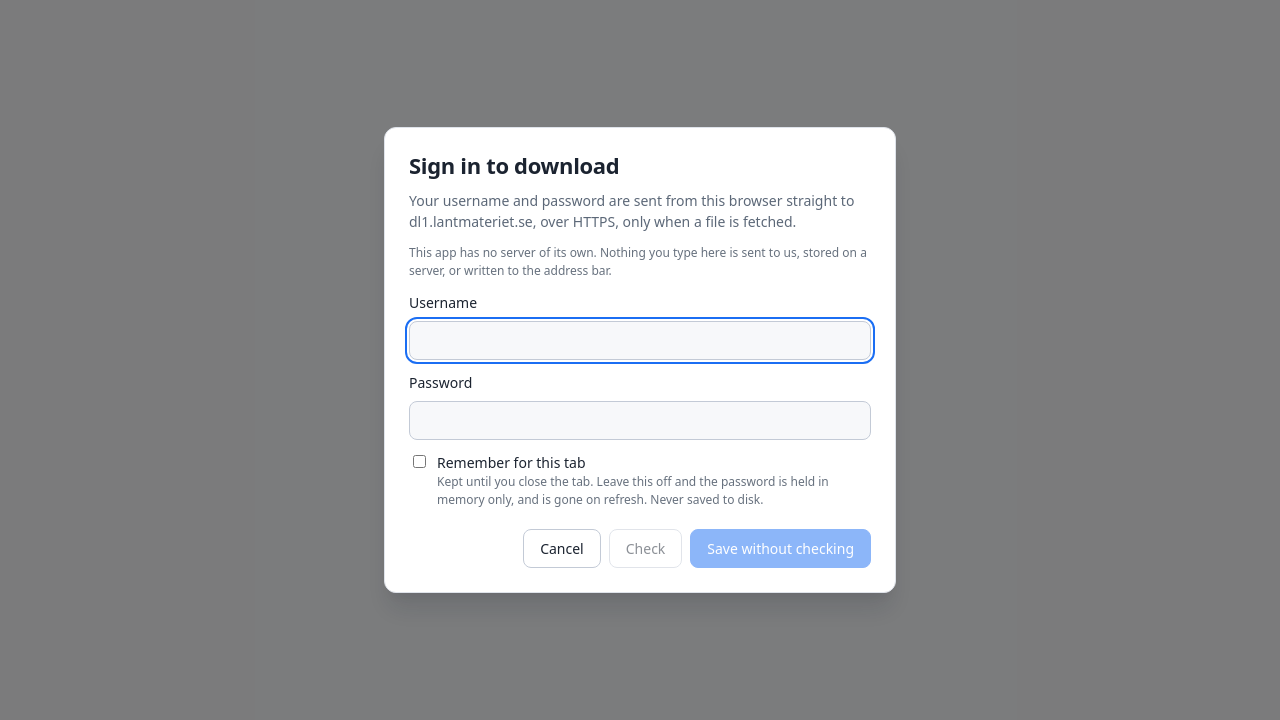
verification › reports a wrong password as a wrong password
Type "anna" into the field labelled "Username" at (640, 341), box [409,321,871,360]
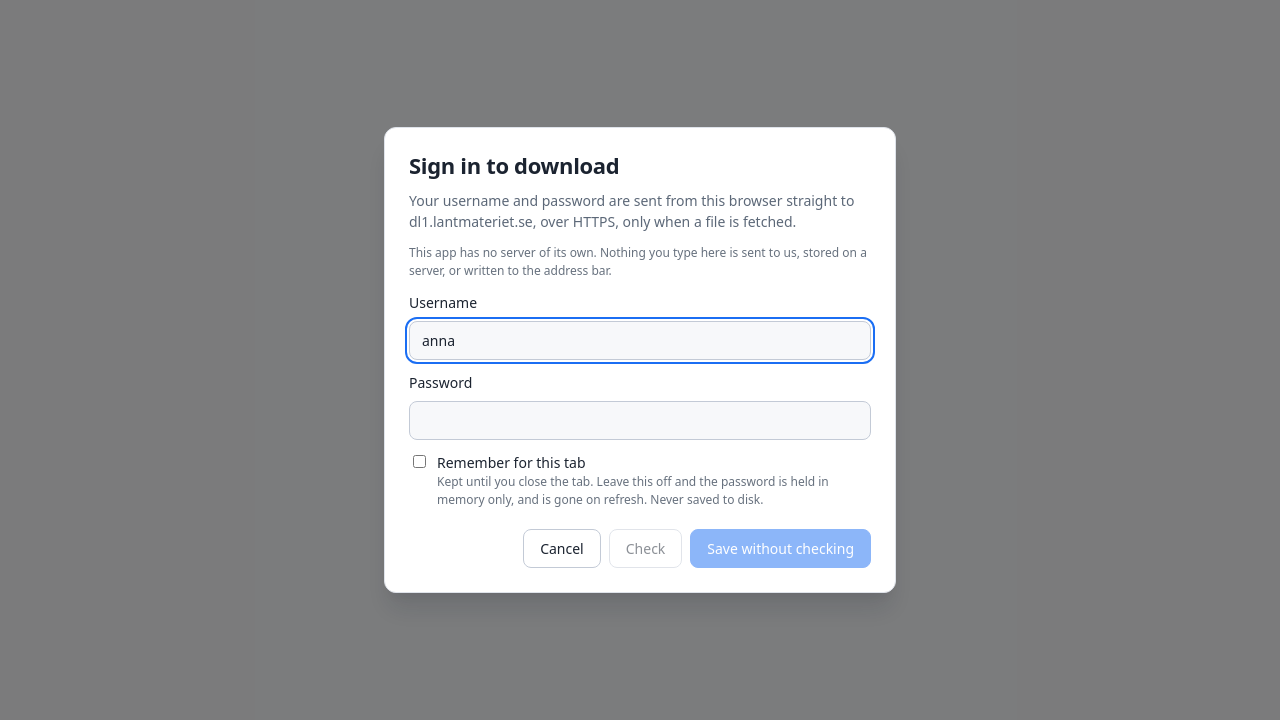
Type "hemligt" into the password field labelled "Password" at (640, 421), box [409,401,871,440]
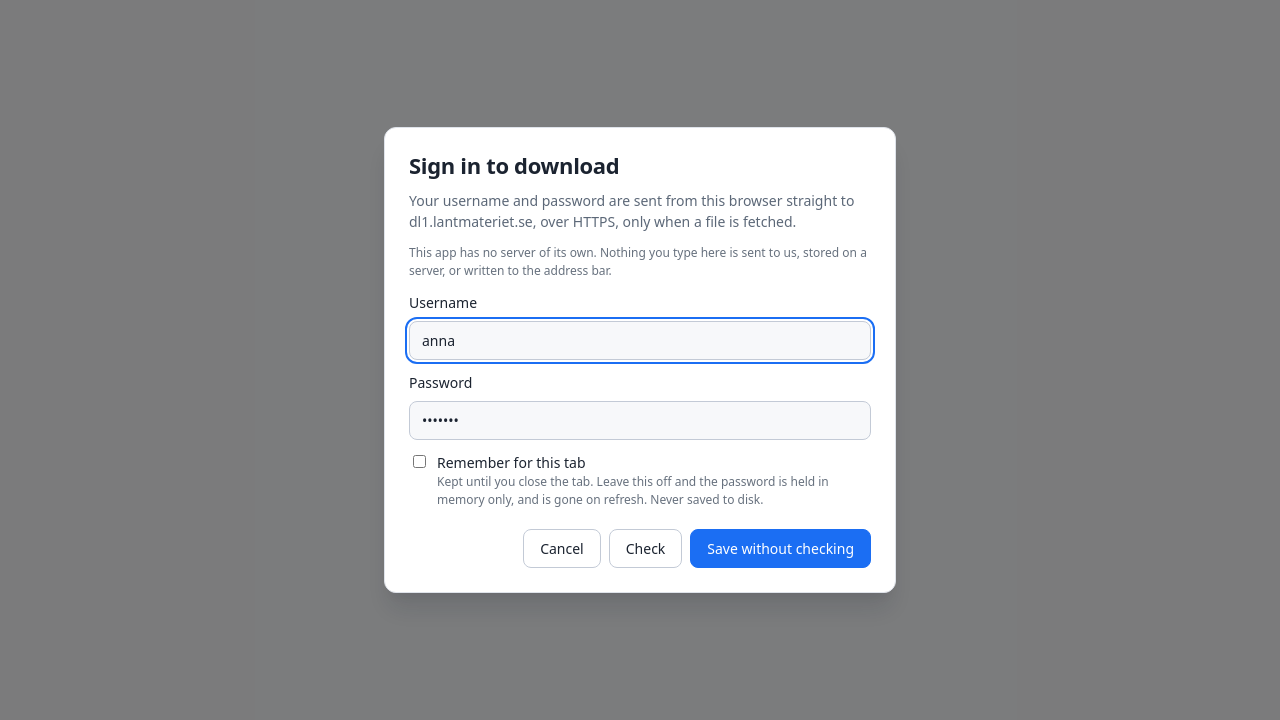
Submit the form, box [385,128,895,592]
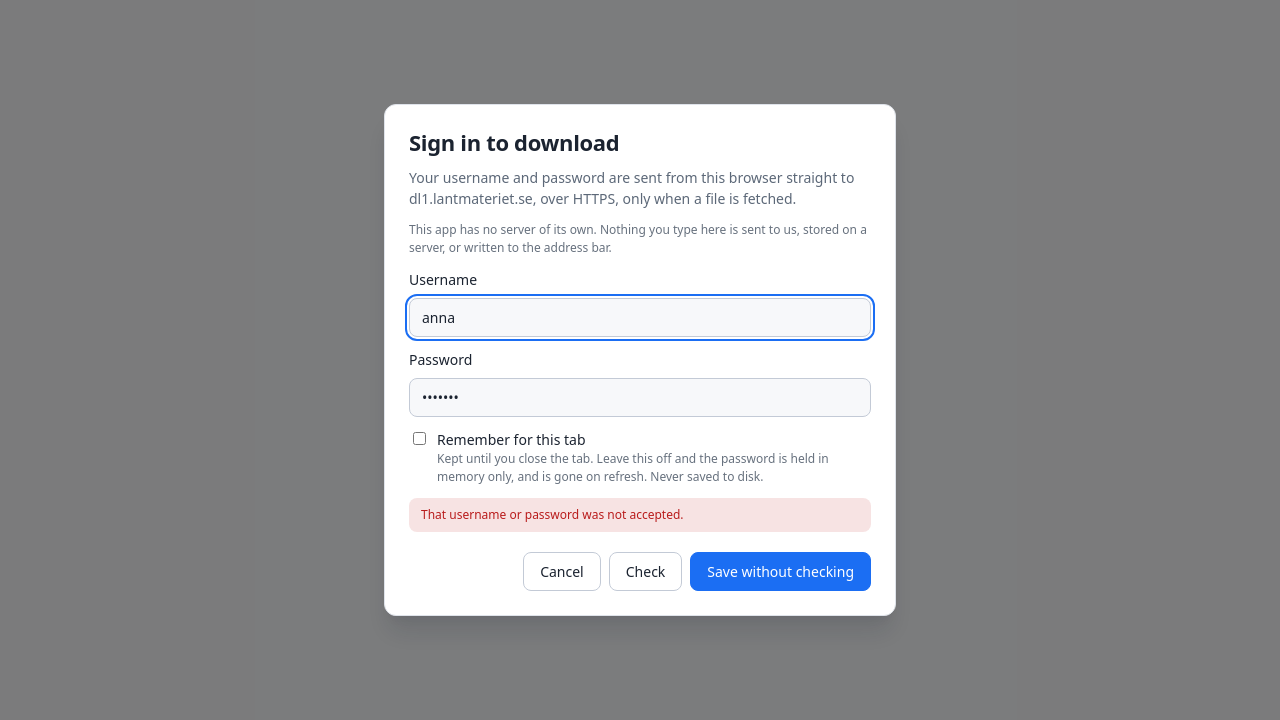
Now the text with class "msg--error" shows "not accepted", box [421,506,684,523]
